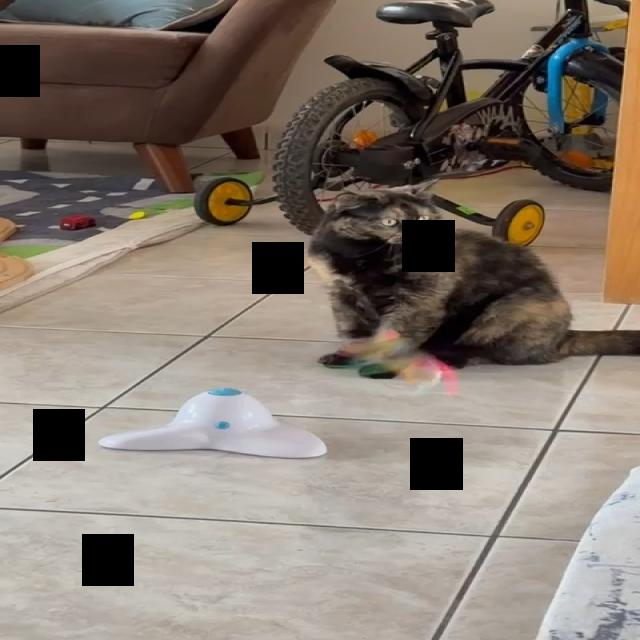authorized: (305, 177, 639, 370)
